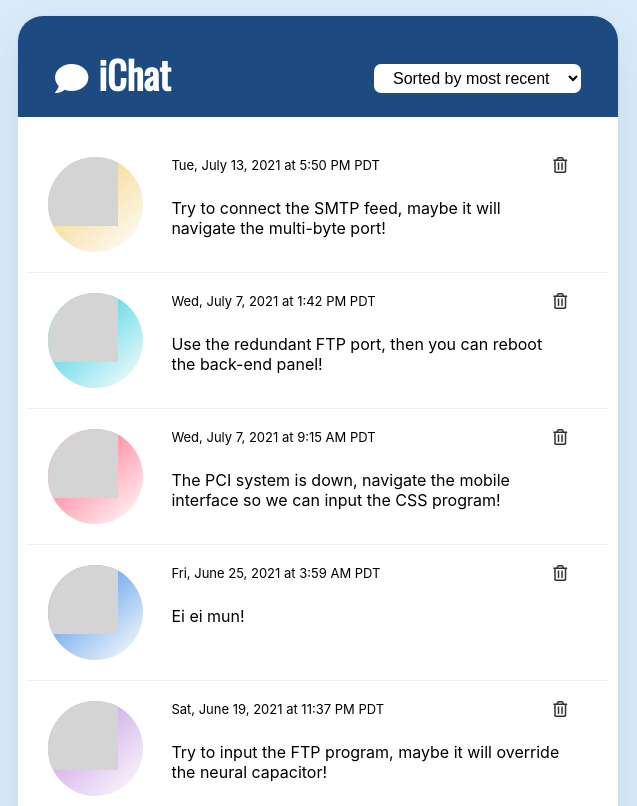
Test: Test suit for the app › to check if message gets deleted when icon is clicked
This screenshot has width=637, height=806.
Click the button named "delete button 1".
click(560, 302)  # box x1=553 y1=293 x2=567 y2=311
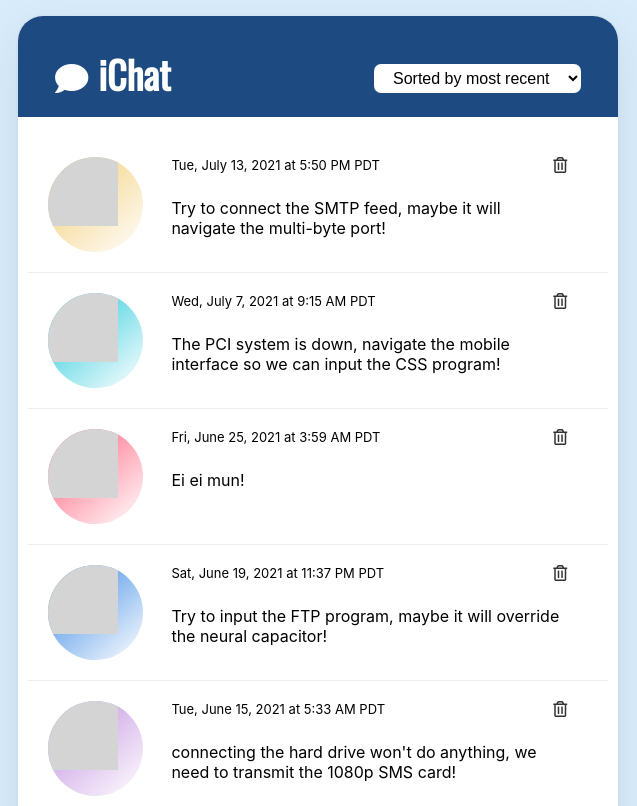
Expected: the text "Use the redundant" is gone
